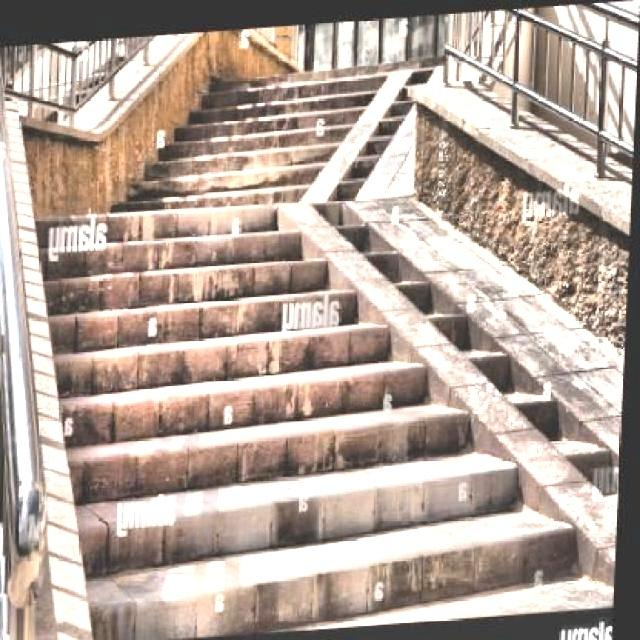stair: (26, 176, 580, 638), (126, 74, 383, 198)
